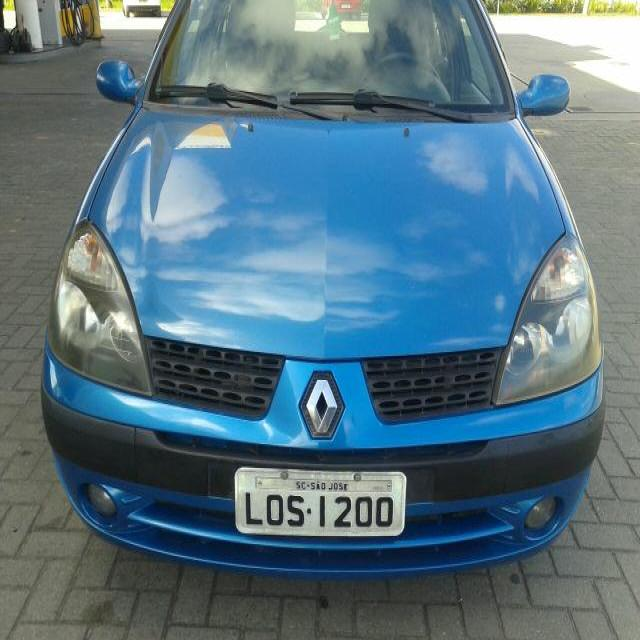Placa: (232, 463, 409, 543)
